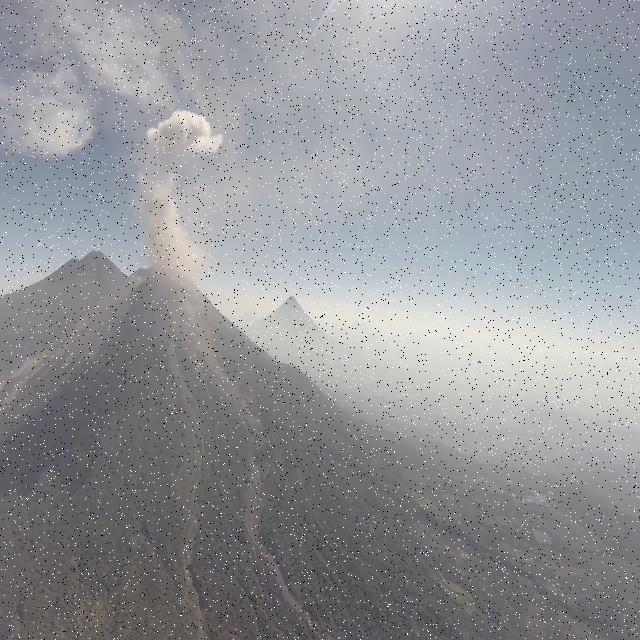Plume: (0, 0, 186, 156), (131, 165, 211, 279), (147, 100, 230, 166)
